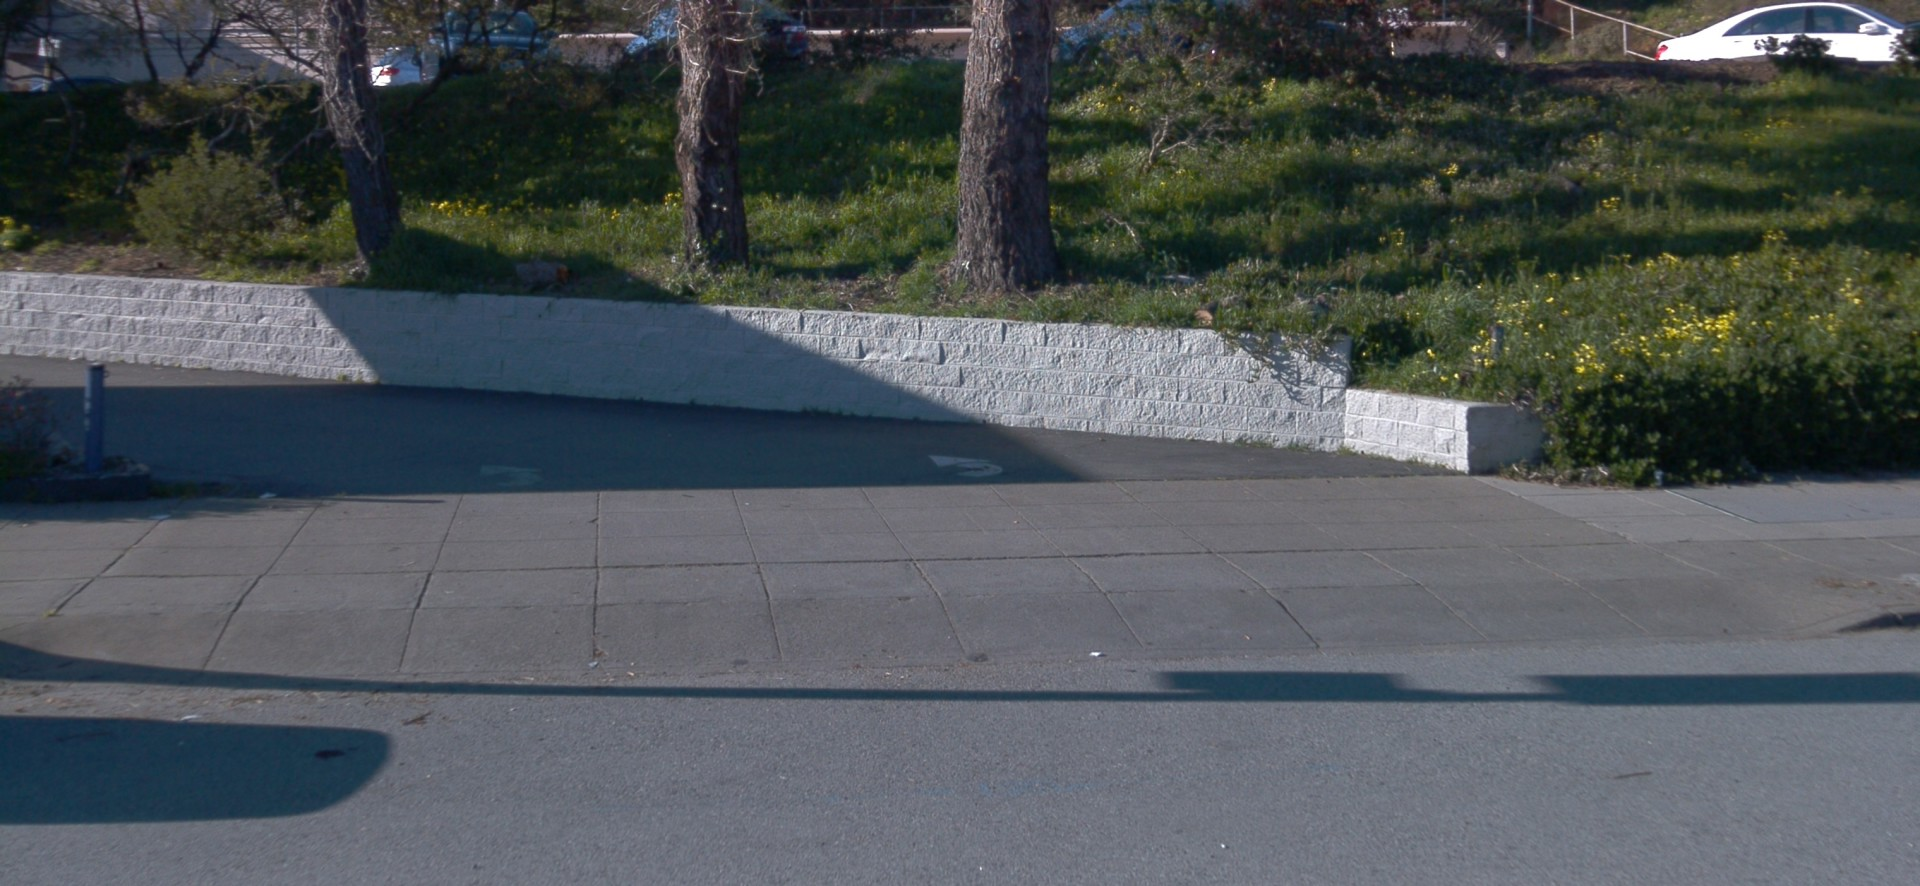TYPE_VEHICLE: (1054, 0, 1372, 70), (1653, 0, 1920, 62), (621, 0, 813, 64), (415, 5, 561, 86), (371, 46, 422, 87), (25, 74, 131, 92), (912, 56, 971, 68), (1906, 22, 1920, 32)
